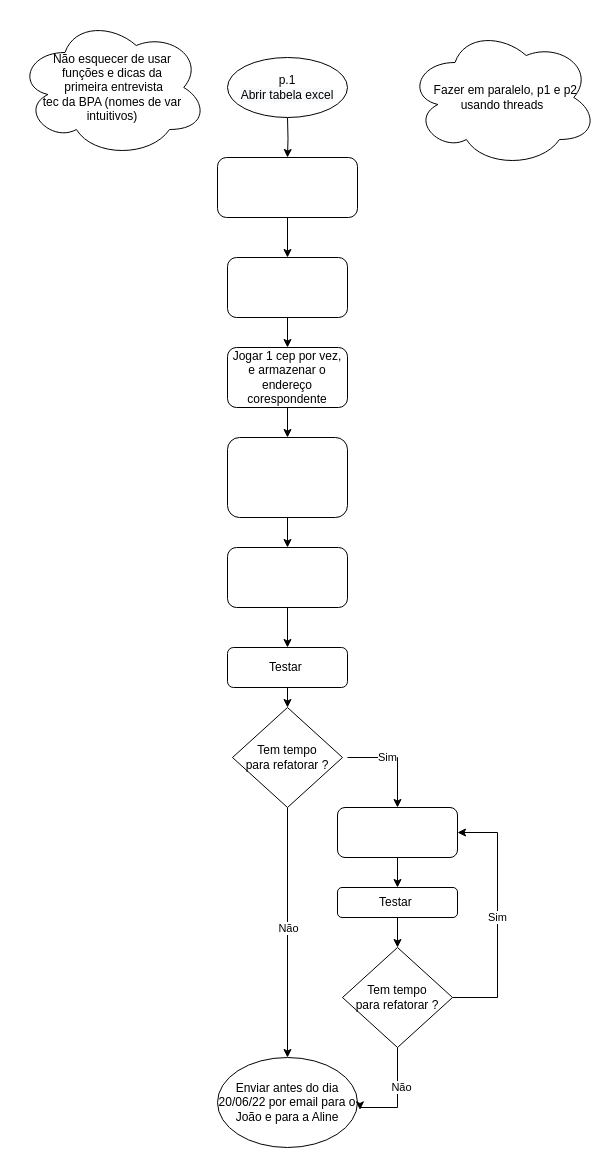
The diagram is 615 pixels wide and 1165 high, and some of its shapes have lost their labels. The shapes that lost their labels are listed below. From the top down, each one's centre as x and y in pixels, then its label:
point 287,187: Acessar coluna "CEP", armazenas os dados, com script python
point 287,287: p.2 acessar site dos correios, direto na pesquisa de cep
point 287,477: p3 Atualizar a planilha excel com os dado coletados (automaticamente)
point 287,577: Criar uma nova planilha em um novo arquivo e PATH
point 397,832: Implementar exemplo(tdd, def, threads)
